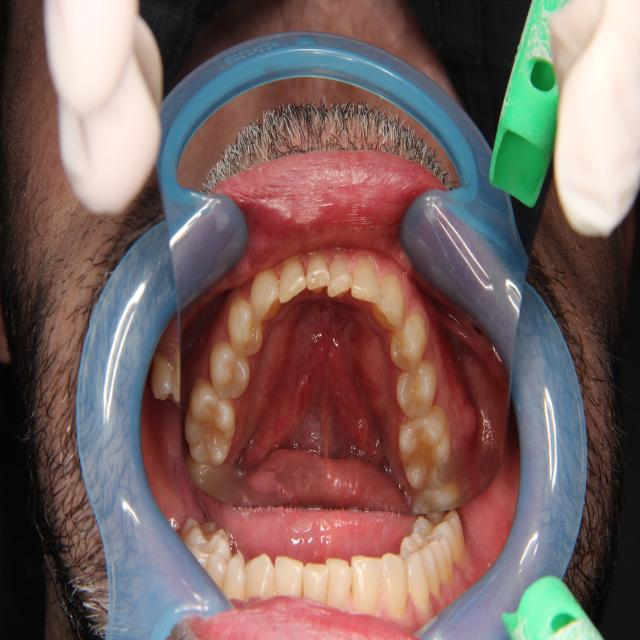tooth: (394, 404, 457, 494), (183, 373, 237, 470), (392, 352, 442, 426), (206, 337, 254, 404), (387, 310, 430, 376), (370, 269, 409, 337), (225, 297, 264, 361), (407, 474, 463, 517), (246, 265, 283, 323), (347, 256, 385, 308), (276, 249, 307, 309), (325, 255, 356, 306), (303, 252, 332, 301)
